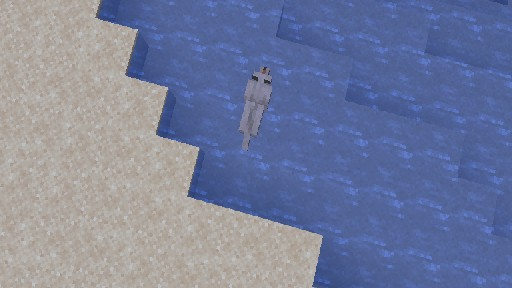wolf: (237, 65, 272, 150)
